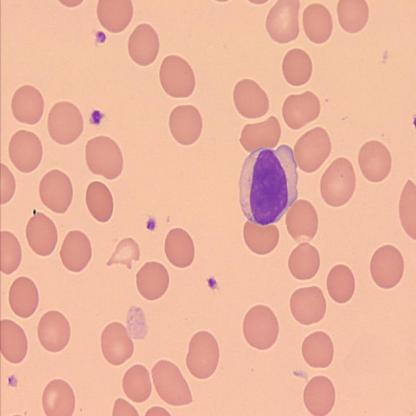Atypical lymphocyte: (236, 143, 300, 226)
